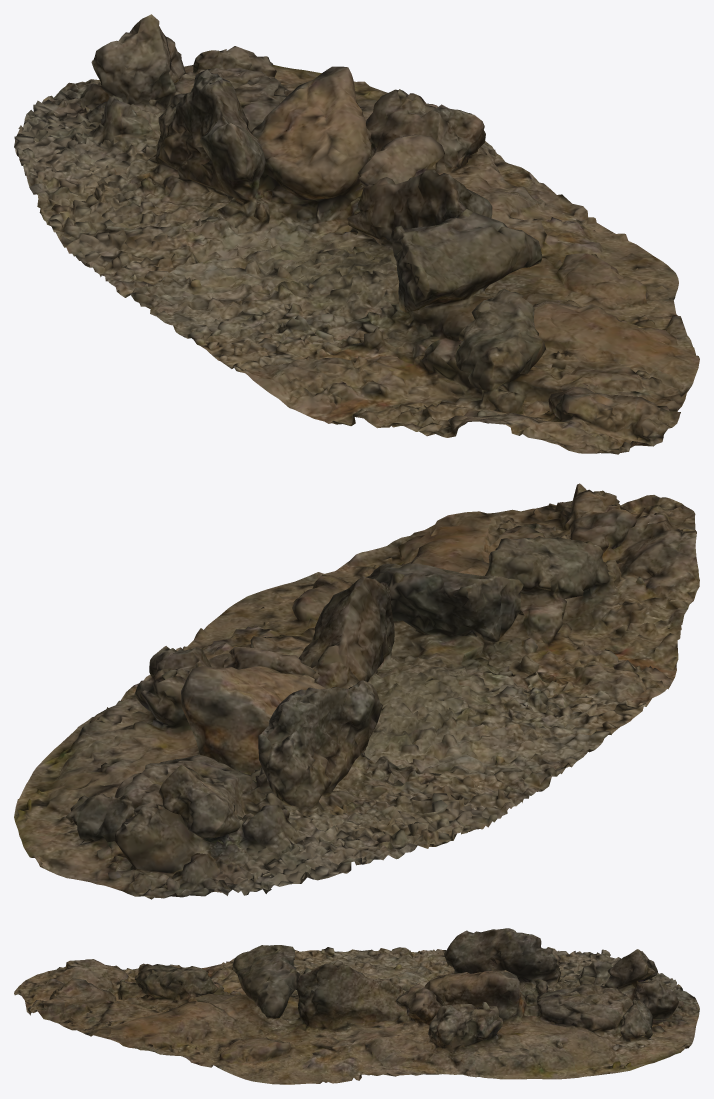
File: coast_land_rocks_02.glb
The picture shows the model from 3 angles, top to bottom: view 1: azimuth 30°, elevation 25°; view 2: azimuth 150°, elevation 25°; view 3: azimuth 270°, elevation 25°; orthographic projection. The views are drawn at different scales.
Parts seen in each view (by area): view 1: coast_land_rocks_02; view 2: coast_land_rocks_02; view 3: coast_land_rocks_02.
Boxes of the visible parts, <box> form: coast_land_rocks_02: <box>14,14,699,454</box>; coast_land_rocks_02: <box>14,483,699,899</box>; coast_land_rocks_02: <box>14,928,699,1084</box>.
Size of the model in its own units: 4.89 by 1.39 by 10.45.
1 material, 1 textured.
